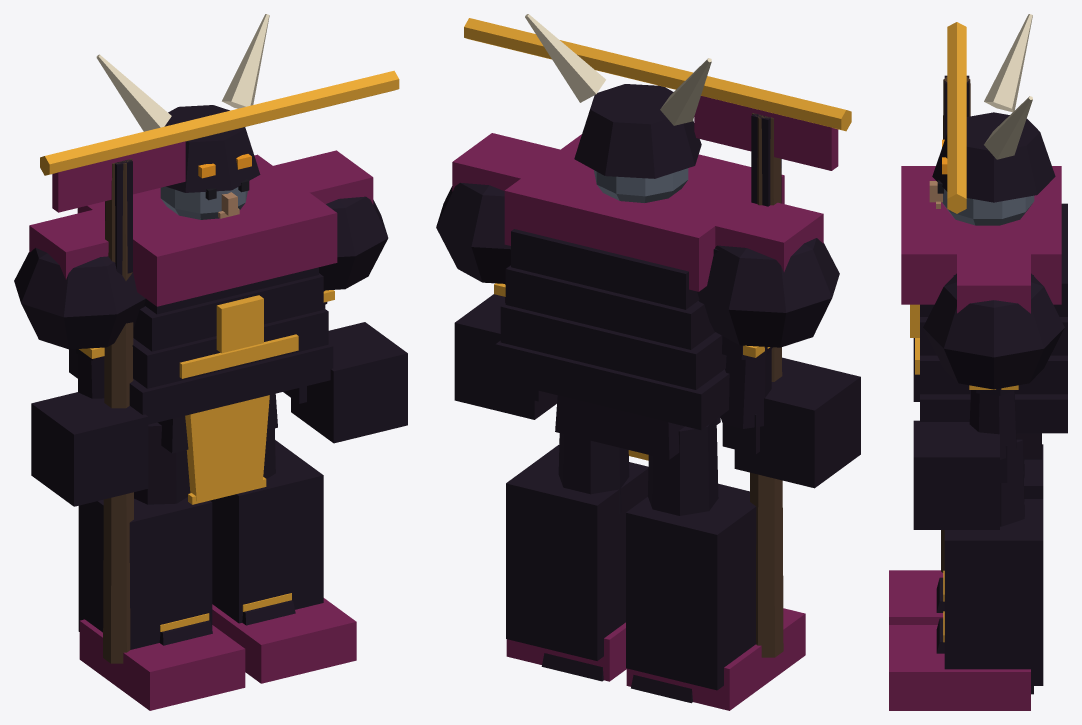
Rendered from abyss_guard.obj.
3 renders of one model, left to right at view 1: azimuth 30°, elevation 25°; view 2: azimuth 150°, elevation 25°; view 3: azimuth 270°, elevation 25°, orthographic. The views are drawn at different scales.
Visible parts, largest first — view 1: torso, leg_r, arm_r, leg_l, weapon, arm_l, head, hips; view 2: torso, leg_r, arm_r, leg_l, weapon, arm_l, head, hips; view 3: arm_l, leg_l, torso, head, weapon, leg_r, hips.
Boxes of the visible parts, x1,y1,x2,y2 form: torso: (69, 154, 337, 504); leg_r: (78, 422, 245, 710); arm_r: (14, 209, 148, 506); leg_l: (210, 428, 356, 683); weapon: (40, 70, 399, 663); arm_l: (268, 150, 407, 443); head: (96, 14, 269, 219); hips: (158, 393, 277, 453); torso: (495, 134, 784, 460); leg_r: (626, 419, 805, 710); arm_r: (697, 200, 860, 488); leg_l: (506, 433, 648, 681); weapon: (464, 18, 851, 657); arm_l: (436, 133, 559, 419); head: (525, 14, 711, 202); hips: (555, 395, 720, 459); arm_l: (913, 252, 1064, 529); leg_l: (889, 439, 1043, 710); torso: (901, 166, 1067, 433); head: (929, 14, 1055, 225); weapon: (941, 22, 970, 572); leg_r: (889, 444, 1043, 624); hips: (1016, 433, 1041, 459).
Size of the model in its own units: 0.68 by 1.08 by 0.29.
